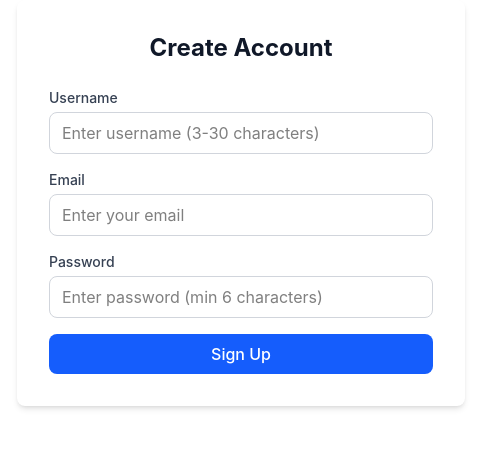
Test: SignUp Component › Username Validation - Requirement 1.6 › should show error for username less than 3 characters
This screenshot has width=483, height=451.
Step 1. Type "ab" into the field labelled "Username" → (241, 133), box left=49, top=112, right=433, bottom=154
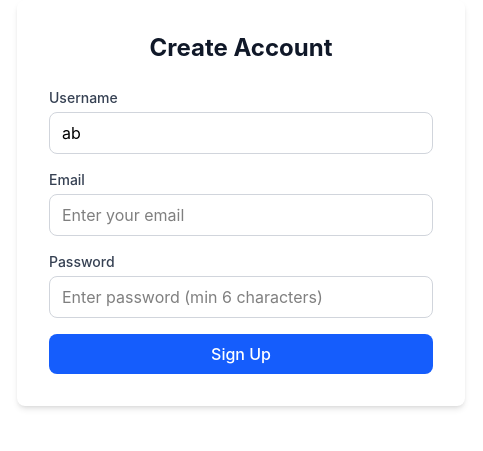
Step 2. Type "test@example.com" into the field labelled "Email" → (241, 215), box left=49, top=194, right=433, bottom=236
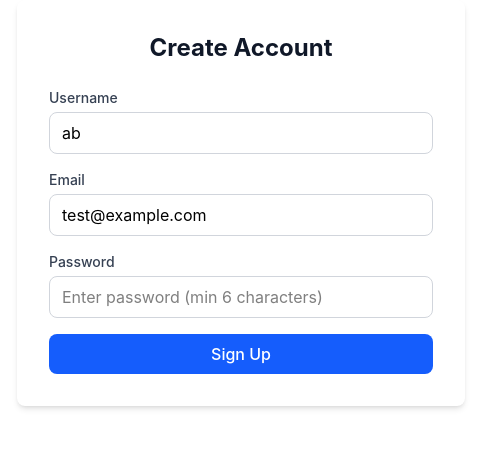
Step 3. Type "password123" into the password field labelled "Password" → (241, 297), box left=49, top=276, right=433, bottom=318
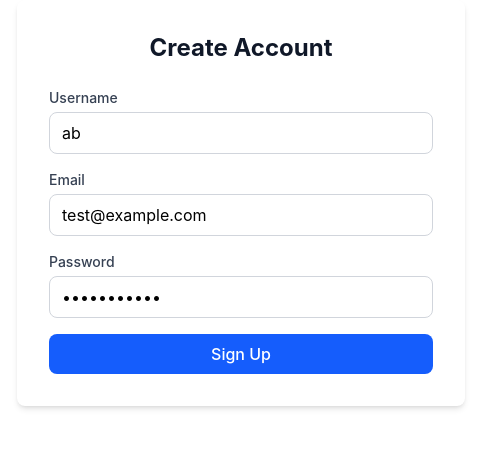
Step 4. Click the button "Sign Up" → (241, 354), box left=49, top=334, right=433, bottom=374
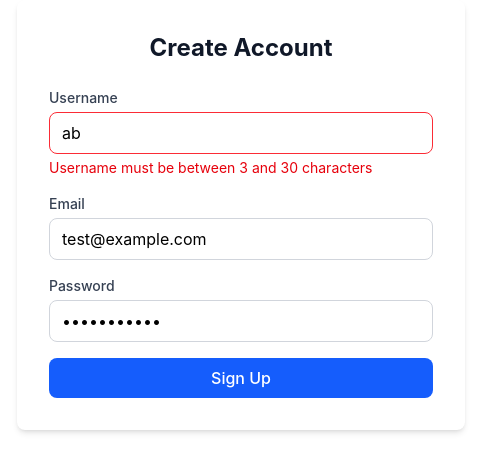
Check: the text "Username must be between 3 and 30 characters" is shown, box left=49, top=159, right=372, bottom=176
